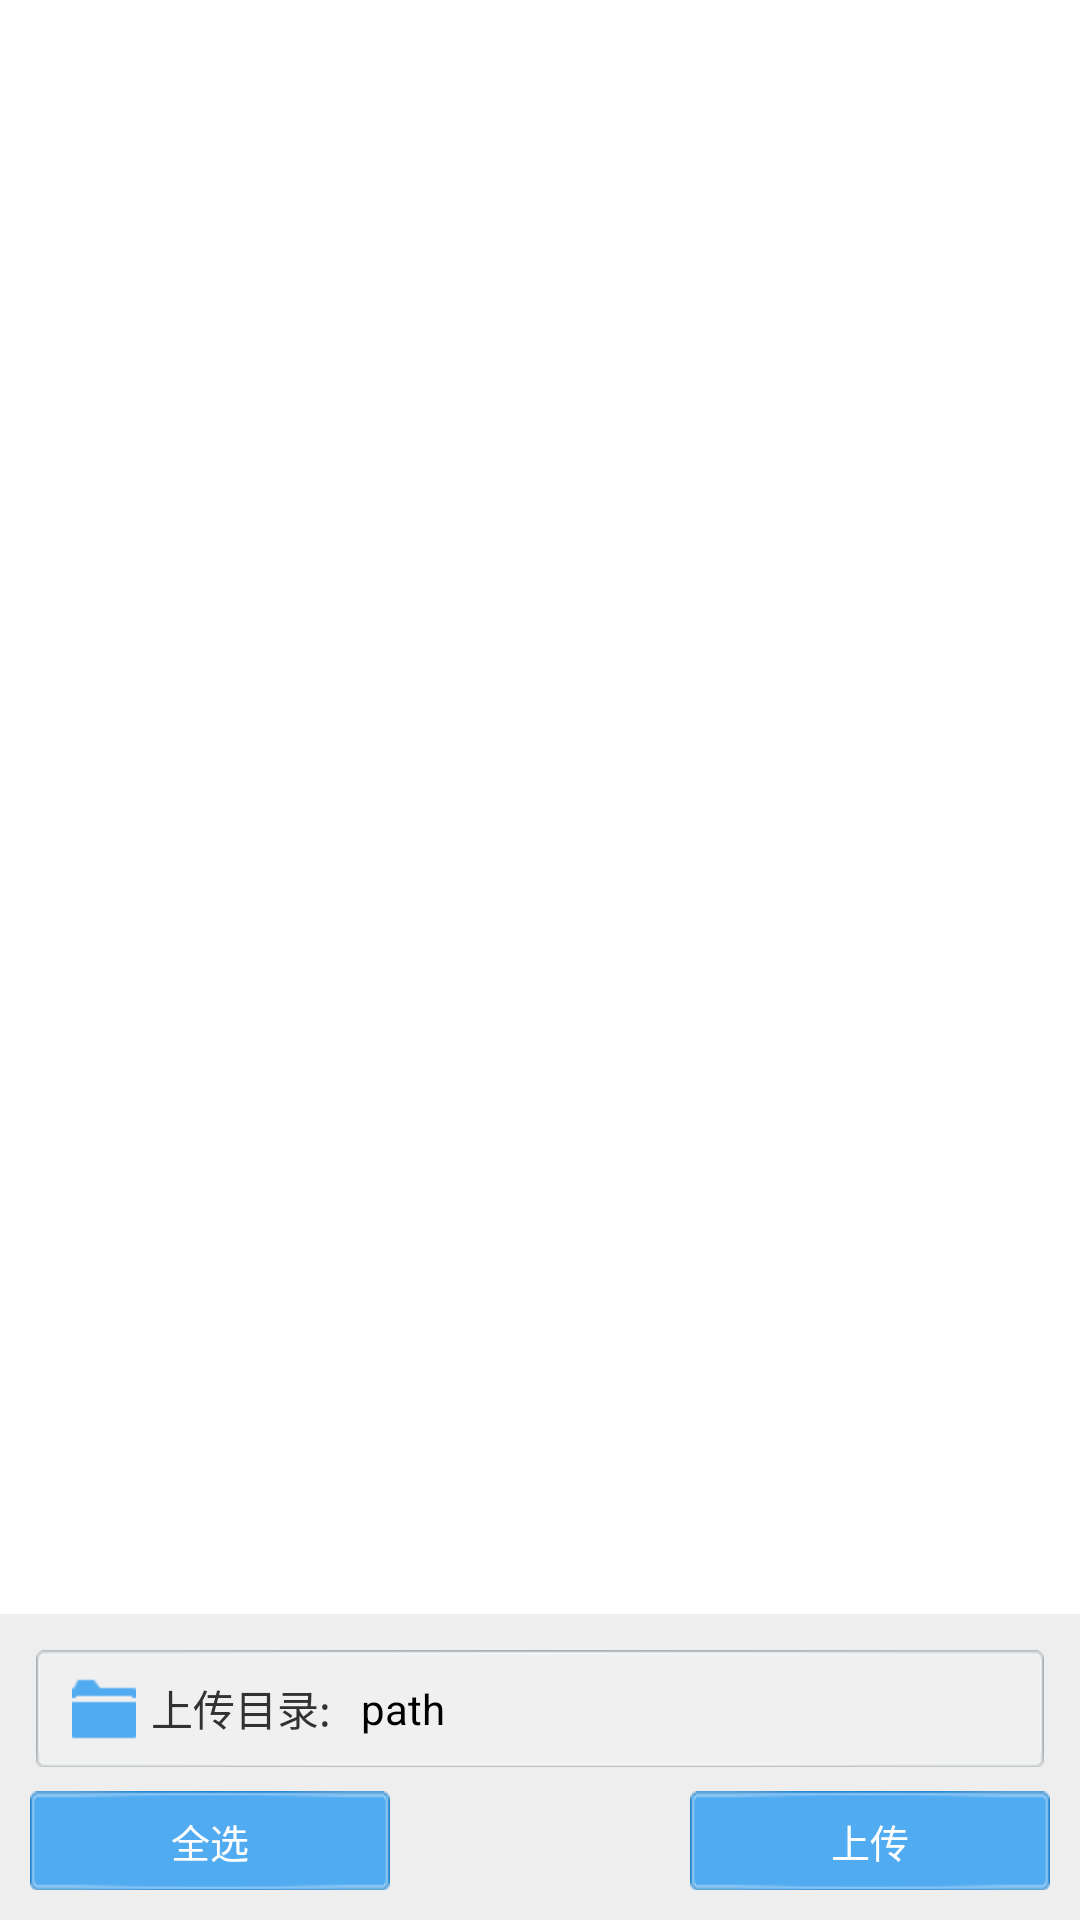

Icon bounding boxes for this 1080x1920 phone screenshot, format (x1, y1, x2, y2):
option folder: (72, 1679, 136, 1739)
